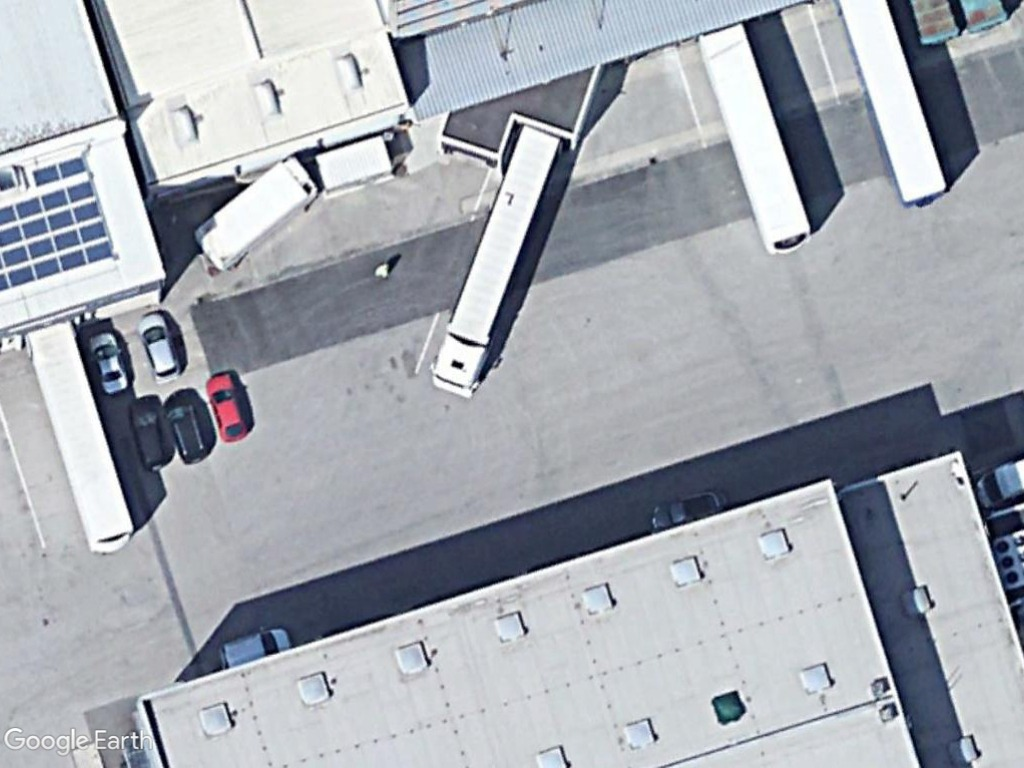car: (124, 397, 177, 471), (201, 371, 252, 447), (134, 313, 184, 390), (160, 397, 211, 465), (87, 330, 131, 398)
longvehicle: (426, 125, 568, 399)
